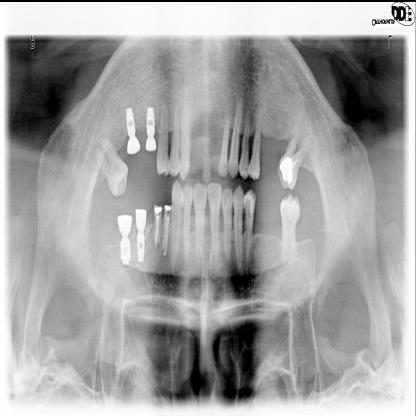Bicon: (122, 95, 141, 137), (116, 232, 134, 268), (144, 103, 157, 139), (136, 231, 146, 263)
